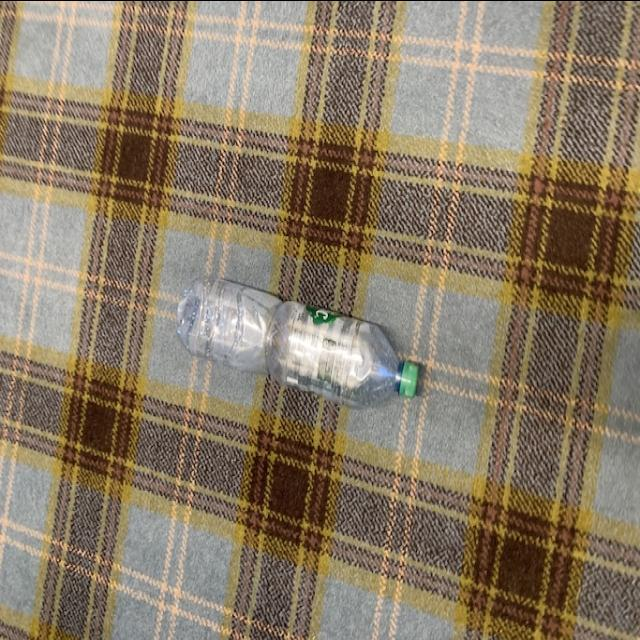PET: (176, 278, 418, 412)
